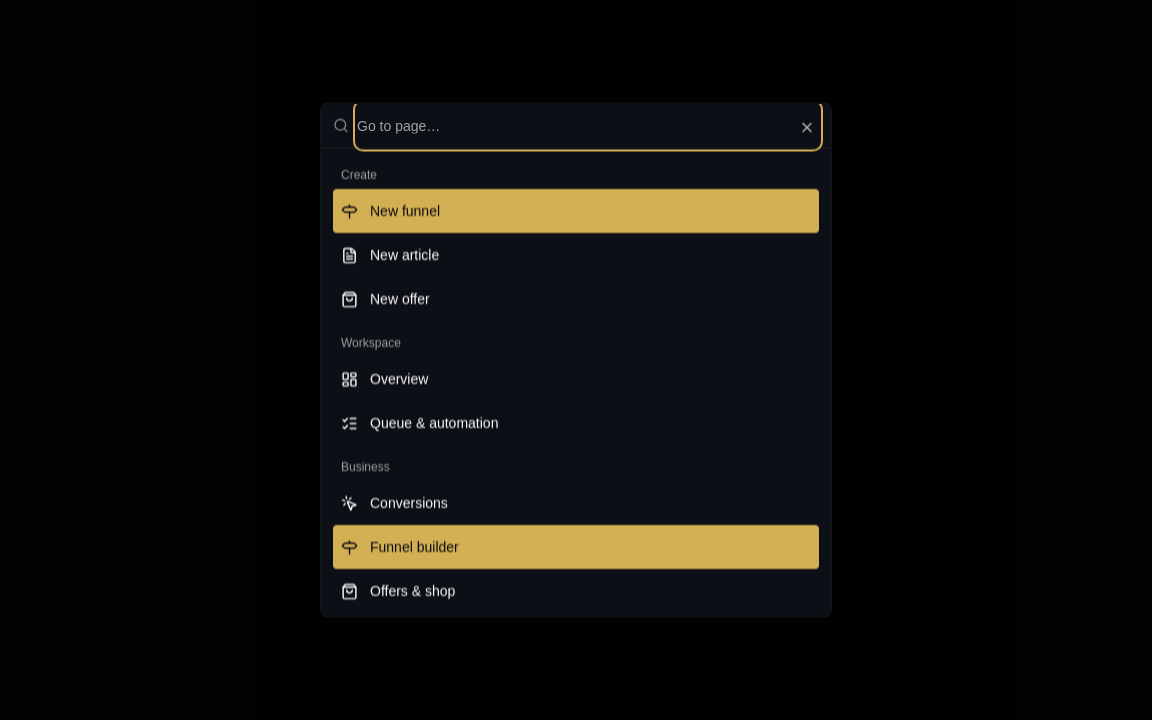
Test: admin command navigation › Enter on password opens the highlighted best match /admin/settings
The image size is (1152, 720).
Later steps or results of the test are not shown.
In the dropdown: (588, 126) [357,104,819,148], type "password"
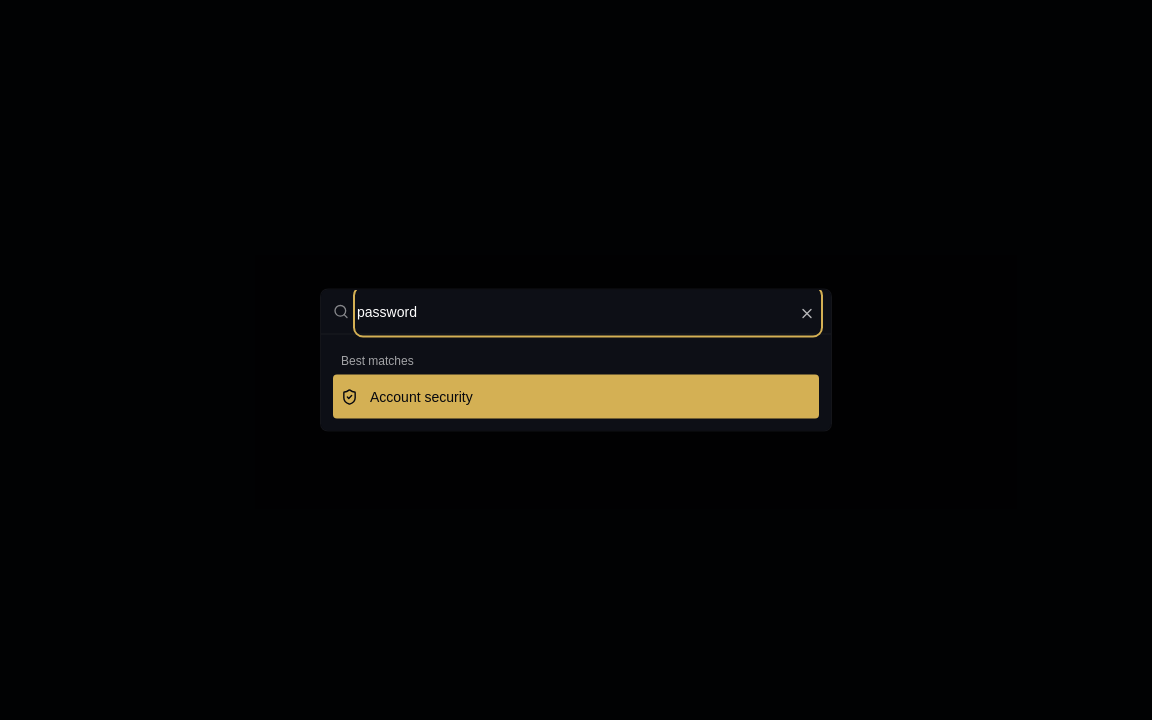
Expected: the option "Account security" is shown, [333,374,819,418]
